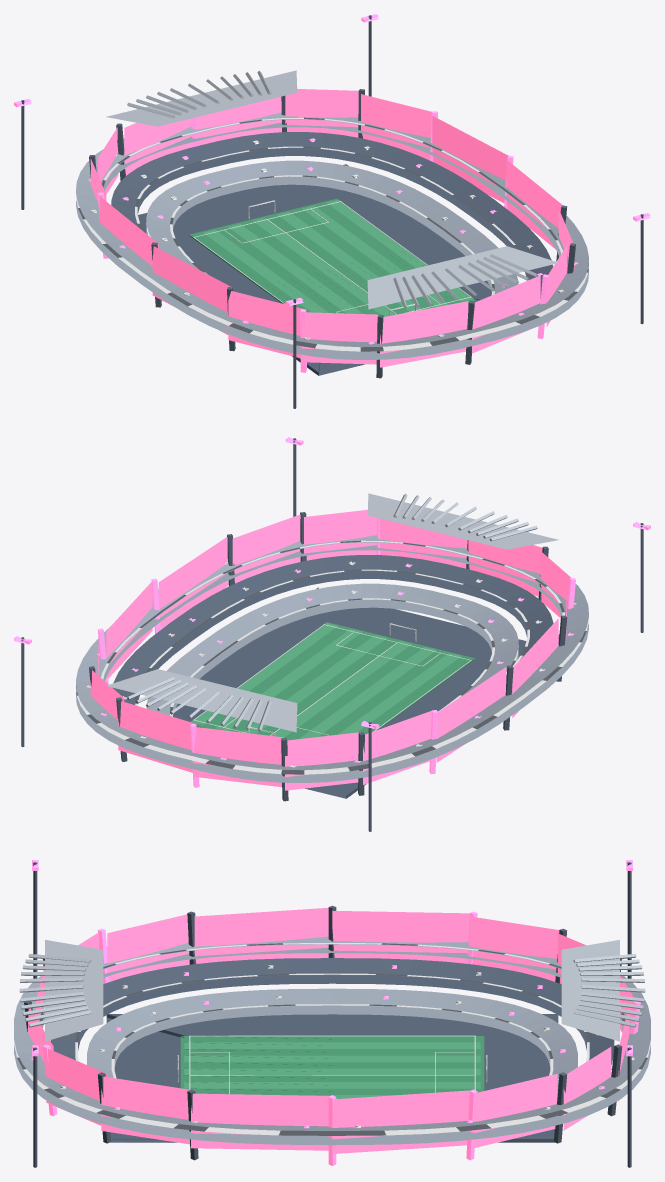
The model's file is neo-quimica.glb.
3 views of the same model, one above another, from view 1: azimuth 30°, elevation 25°; view 2: azimuth 150°, elevation 25°; view 3: azimuth 270°, elevation 25° (orthographic). The views are drawn at different scales.
Visible parts, largest first — view 1: Neo Química Arena; view 2: Neo Química Arena; view 3: Neo Química Arena.
Boxes of the visible parts, x1,y1,x2,y2 form: Neo Química Arena: (14, 14, 650, 408); Neo Química Arena: (14, 437, 650, 831); Neo Química Arena: (14, 860, 650, 1167).
Bounding box in the file's own units: 61.86 × 17.65 × 81.76.
